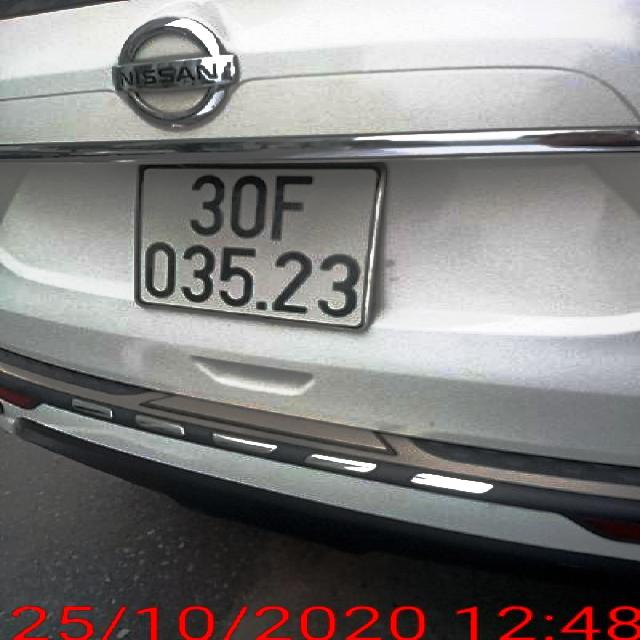license_plate: (133, 162, 387, 330)
